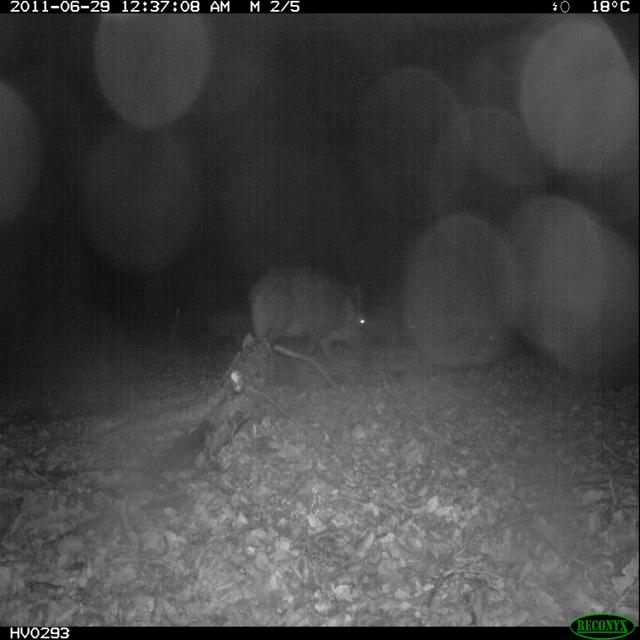boar: (228, 246, 380, 402)
